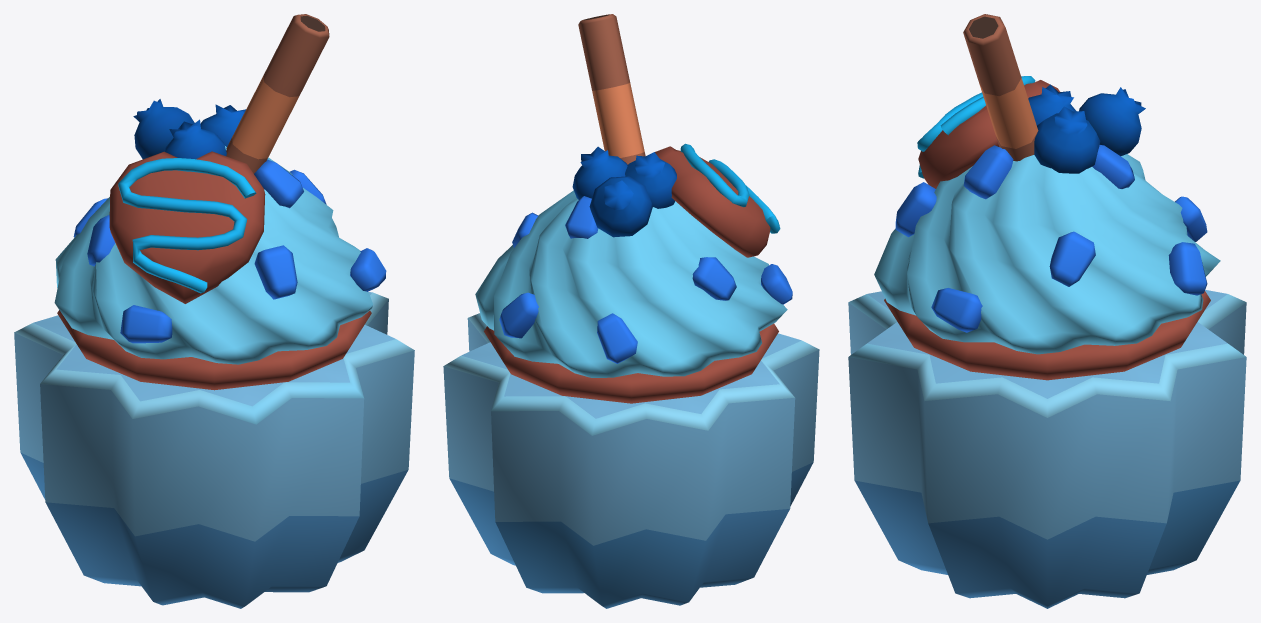
Rendered from IceCreamBlueberry.fbx.
The picture shows the model from 3 angles, left to right: view 1: azimuth 30°, elevation 25°; view 2: azimuth 150°, elevation 25°; view 3: azimuth 270°, elevation 25°; orthographic projection. The views are drawn at different scales.
Parts seen in each view (by area): view 1: Map02_Kem_LV4; view 2: Map02_Kem_LV4; view 3: Map02_Kem_LV4.
Part boxes in pixels (bbox=[...]): Map02_Kem_LV4: bbox=[14, 14, 414, 608]; Map02_Kem_LV4: bbox=[443, 14, 819, 608]; Map02_Kem_LV4: bbox=[848, 14, 1246, 608].
Size of the model in its own units: 56.14 by 83.76 by 53.4.
